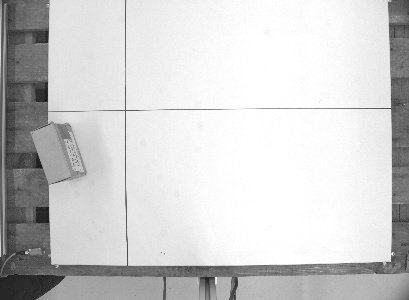b6: (26, 118, 88, 187)
